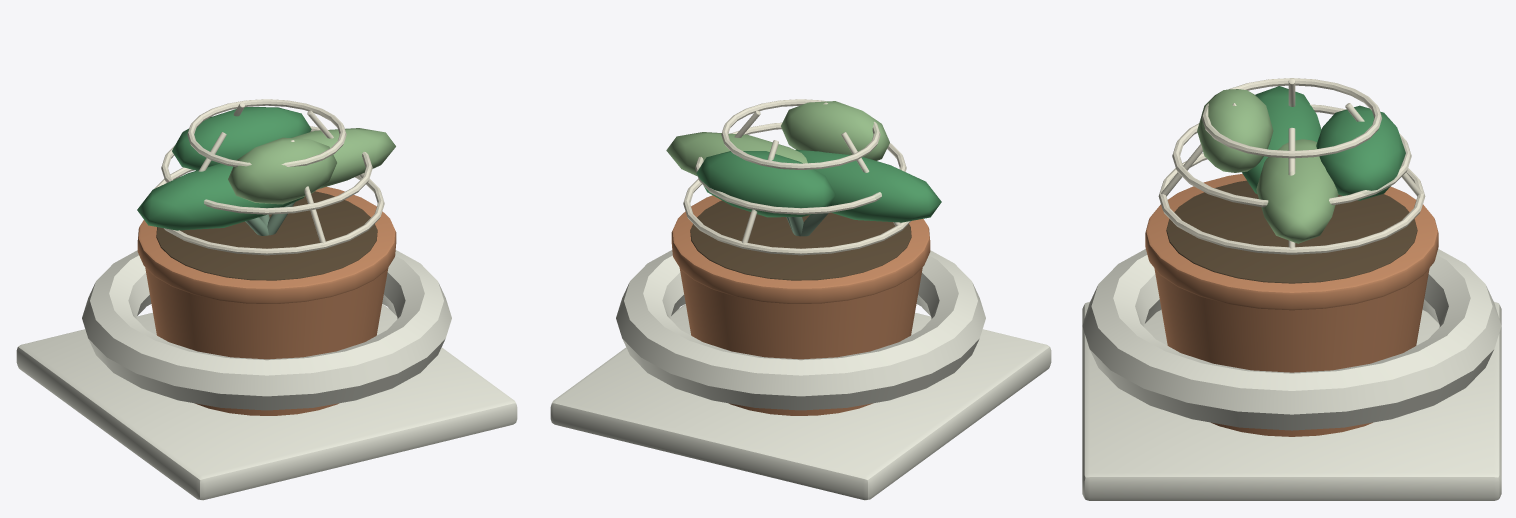
File: delivery_fixture_product_plant.glb
3 views of the same model, side by side, from view 1: azimuth 30°, elevation 25°; view 2: azimuth 150°, elevation 25°; view 3: azimuth 270°, elevation 25° (orthographic). The views are drawn at different scales.
Visible parts, largest first — view 1: PLANT_MOULDED_INSERT, PLANT_POT_BRACE_RING, PLANT_POT, PLANT_SOIL, PLANT_POT_RIM, PLANT_COMPRESSED_LEAF_A, PLANT_COMPRESSED_LEAF_D, PLANT_COMPRESSED_LEAF_C, PLANT_COMPRESSED_LEAF_B, PLANT_NET_BAND_03, PLANT_NET_BAND_01, PLANT_NET_BAND_02; view 2: PLANT_MOULDED_INSERT, PLANT_POT_BRACE_RING, PLANT_POT, PLANT_SOIL, PLANT_POT_RIM, PLANT_COMPRESSED_LEAF_C, PLANT_COMPRESSED_LEAF_A, PLANT_COMPRESSED_LEAF_D, PLANT_COMPRESSED_LEAF_B, PLANT_NET_BAND_03, PLANT_NET_BAND_01, PLANT_NET_BAND_02; view 3: PLANT_MOULDED_INSERT, PLANT_POT_BRACE_RING, PLANT_POT, PLANT_SOIL, PLANT_POT_RIM, PLANT_COMPRESSED_LEAF_B, PLANT_COMPRESSED_LEAF_C, PLANT_COMPRESSED_LEAF_D, PLANT_NET_BAND_03, PLANT_NET_BAND_01, PLANT_COMPRESSED_LEAF_A, PLANT_NET_BAND_02.
Boxes of the visible parts, x1,y1,x2,y2 form: PLANT_MOULDED_INSERT: (16,304,517,500); PLANT_POT_BRACE_RING: (82,250,451,410); PLANT_POT: (145,267,388,415); PLANT_SOIL: (156,191,377,280); PLANT_POT_RIM: (137,186,396,303); PLANT_COMPRESSED_LEAF_A: (137,159,303,230); PLANT_COMPRESSED_LEAF_D: (228,137,336,204); PLANT_COMPRESSED_LEAF_C: (172,107,311,170); PLANT_COMPRESSED_LEAF_B: (291,128,395,189); PLANT_NET_BAND_03: (187,99,346,167); PLANT_NET_BAND_01: (154,167,384,255); PLANT_NET_BAND_02: (161,126,372,214); PLANT_MOULDED_INSERT: (550,304,1051,500); PLANT_POT_BRACE_RING: (616,250,985,410); PLANT_POT: (679,267,922,415); PLANT_SOIL: (690,200,911,280); PLANT_POT_RIM: (671,195,930,303); PLANT_COMPRESSED_LEAF_C: (696,151,835,217); PLANT_COMPRESSED_LEAF_A: (795,149,941,222); PLANT_COMPRESSED_LEAF_D: (781,101,889,160); PLANT_COMPRESSED_LEAF_B: (666,132,807,176); PLANT_NET_BAND_03: (721,99,880,169); PLANT_NET_BAND_01: (683,179,910,255); PLANT_NET_BAND_02: (695,122,906,214); PLANT_MOULDED_INSERT: (1082,302,1501,500); PLANT_POT_BRACE_RING: (1082,249,1501,430); PLANT_POT: (1154,268,1429,436); PLANT_SOIL: (1166,180,1417,283); PLANT_POT_RIM: (1145,173,1438,310); PLANT_COMPRESSED_LEAF_B: (1256,139,1338,243); PLANT_COMPRESSED_LEAF_C: (1316,105,1405,200); PLANT_COMPRESSED_LEAF_D: (1197,89,1273,172); PLANT_NET_BAND_03: (1202,78,1381,158); PLANT_NET_BAND_01: (1158,153,1425,254); PLANT_COMPRESSED_LEAF_A: (1242,86,1321,193); PLANT_NET_BAND_02: (1172,104,1411,207).
Bounding box in the file's own units: 0.34 × 0.28 × 0.34.
